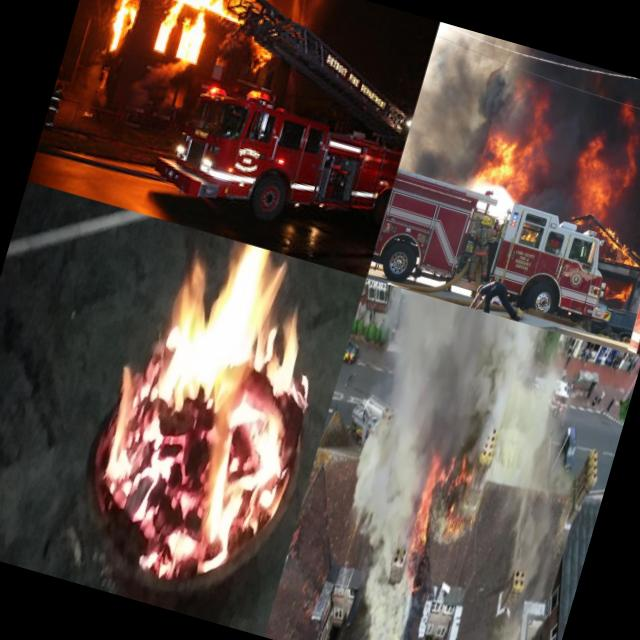fire: (64, 219, 353, 605), (102, 0, 236, 65), (561, 129, 640, 231), (470, 112, 545, 200), (404, 445, 452, 548), (226, 0, 330, 30), (593, 226, 640, 268), (237, 32, 277, 79), (439, 463, 474, 509), (438, 505, 473, 548), (610, 96, 640, 145), (604, 274, 634, 306), (518, 228, 538, 246)
smoke: (330, 289, 476, 546), (398, 21, 522, 192), (430, 310, 516, 480), (468, 437, 572, 572), (486, 42, 604, 154), (483, 322, 578, 450), (344, 521, 433, 640), (142, 44, 194, 96)
